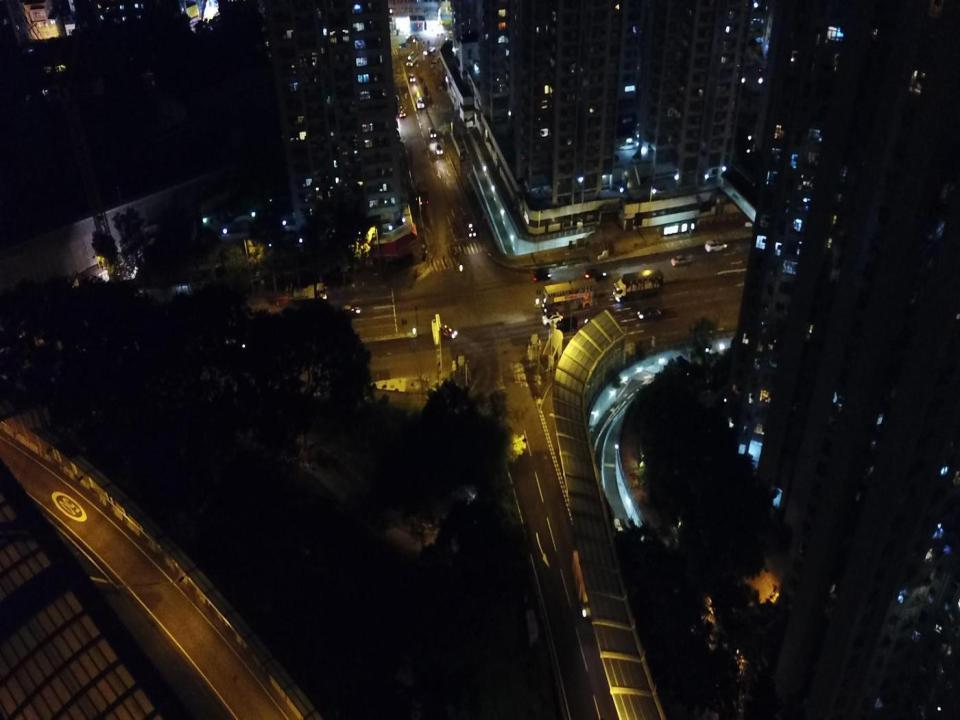bus: (542, 277, 600, 314)
car: (553, 314, 579, 334), (435, 322, 458, 340), (670, 251, 694, 267), (704, 238, 729, 253), (637, 305, 661, 320), (338, 303, 362, 318), (541, 311, 563, 327), (584, 267, 608, 281), (464, 220, 477, 238), (427, 125, 437, 139), (397, 104, 407, 118), (434, 144, 444, 156), (407, 71, 416, 83)
truck: (612, 267, 664, 302), (286, 282, 328, 306), (415, 180, 430, 207), (405, 49, 419, 68)
